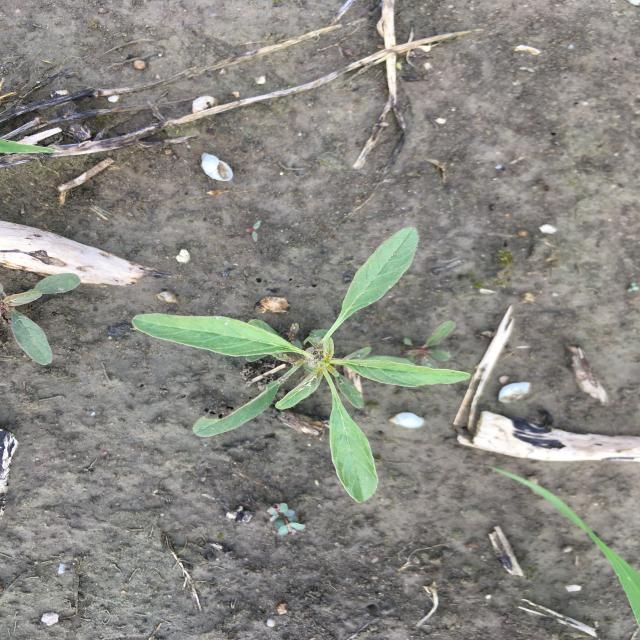Waterhemp: (129, 225, 474, 505)
